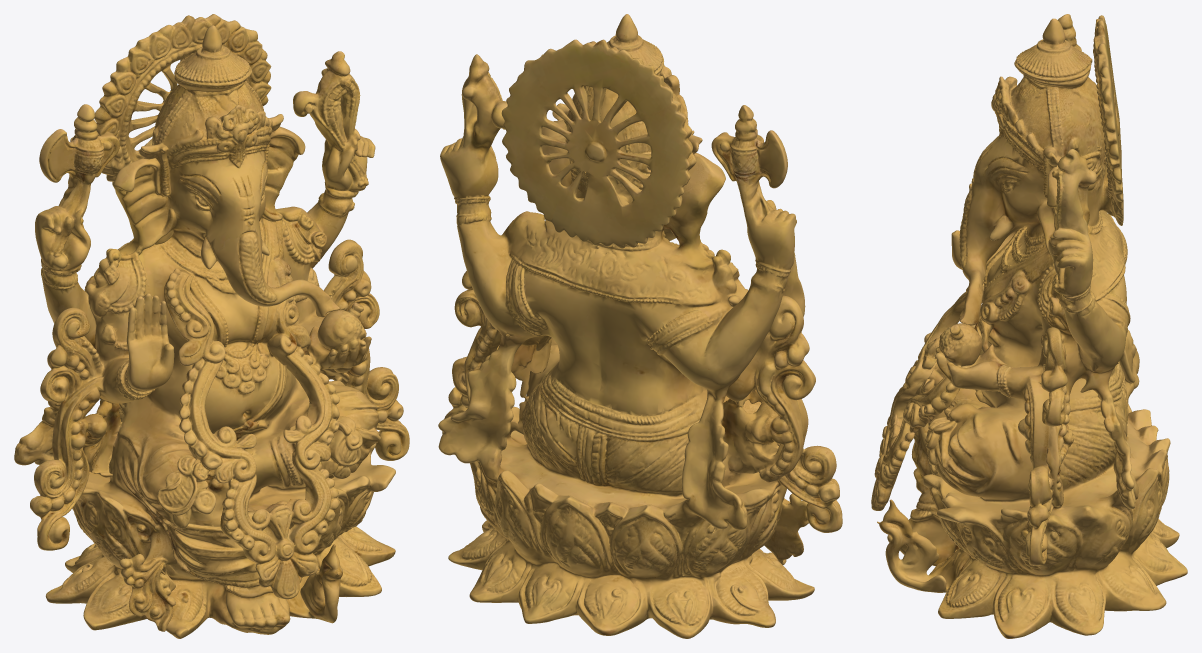
Rendered from brass-ganesh-idol-statue-ganesha-vinayak-ganpati-b-light.glb.
3 renders of one model, left to right at view 1: azimuth 30°, elevation 25°; view 2: azimuth 150°, elevation 25°; view 3: azimuth 270°, elevation 25°, orthographic. The views are drawn at different scales.
Size of the model in its own units: 1.36 by 1.9 by 0.9961.
1 material, 1 textured.
